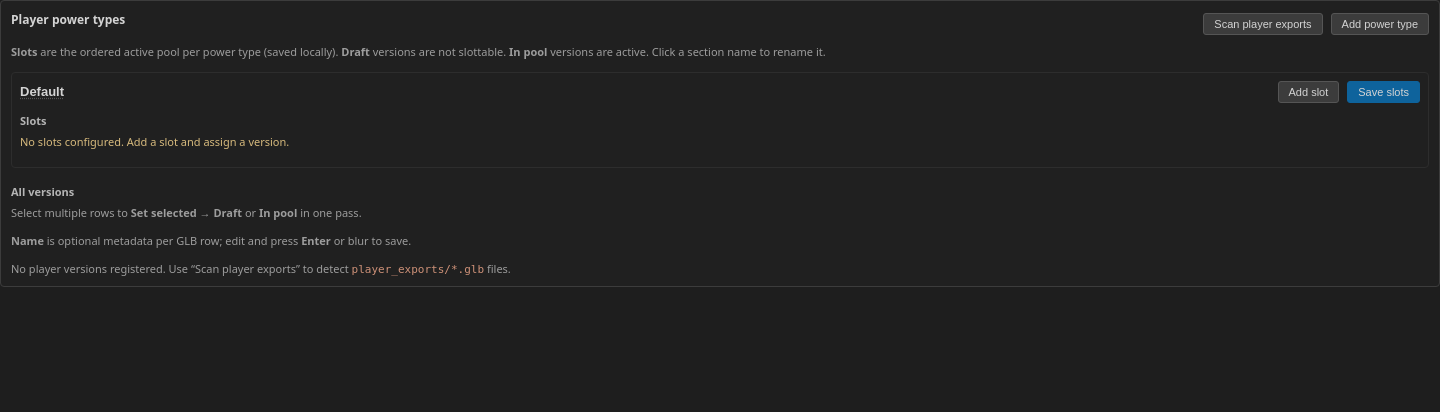
Test: RegistryPlayerPowerTypesSection › adds a new power type section when Add power type is clicked
The image size is (1440, 412).
Click the button with test id "player-add-power-type" at (1380, 24), box top-left (1331, 12), bottom-right (1429, 34)
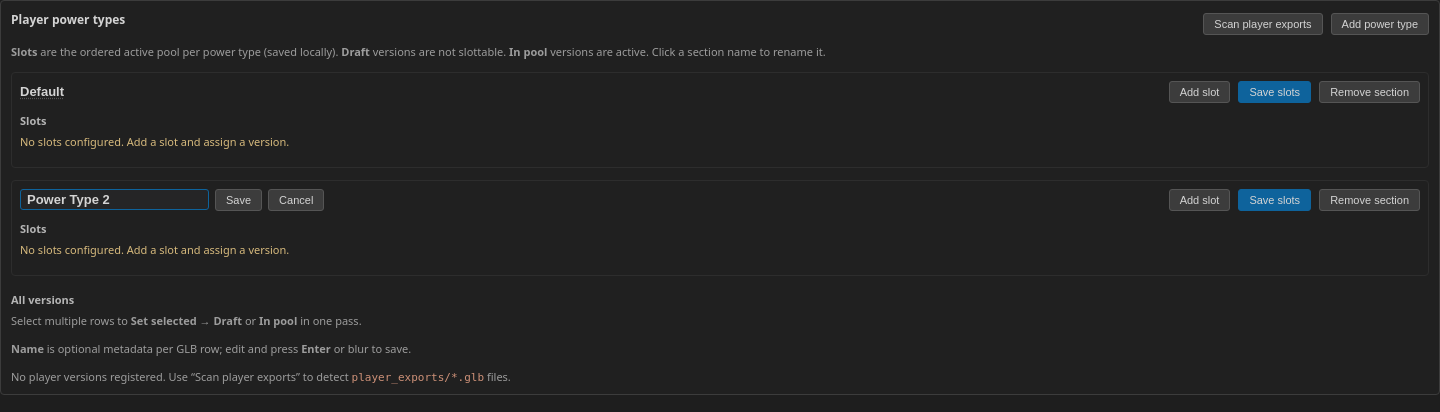
Expected: the button with test id "player-pt-name-btn-default" is shown, top-left (20, 82), bottom-right (64, 101)
Now the number of fields is 1, box top-left (20, 189), bottom-right (209, 210)
